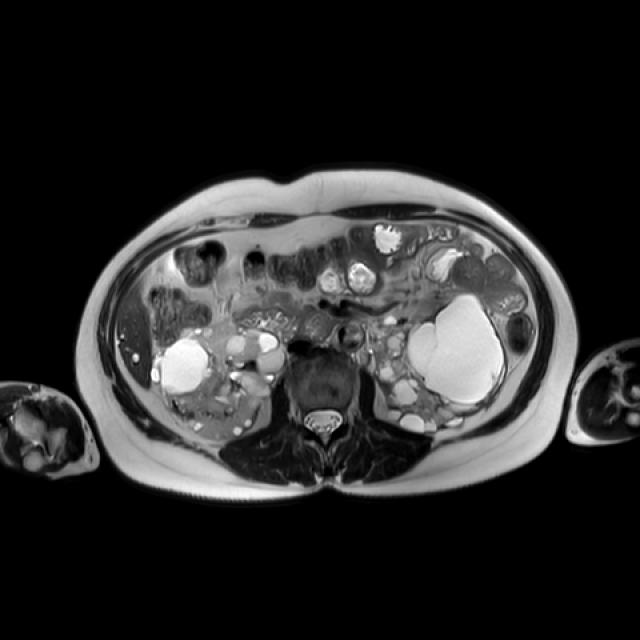sag: (154, 321, 287, 444)
sol: (369, 291, 506, 433)
